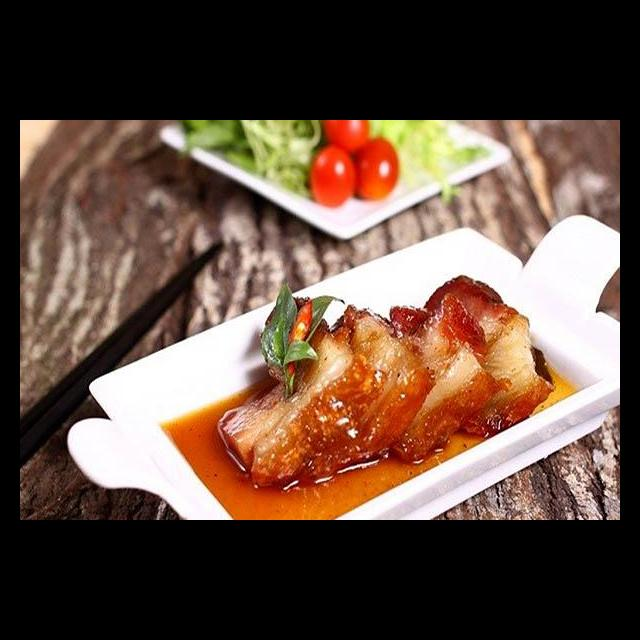thit heo quay: (212, 290, 392, 494), (418, 269, 558, 446), (379, 291, 514, 470), (305, 300, 441, 477)
